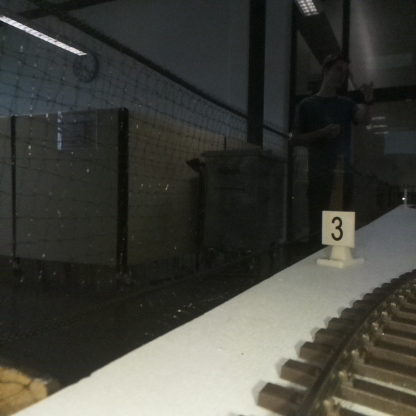white-stop-3: (321, 211, 355, 265)
